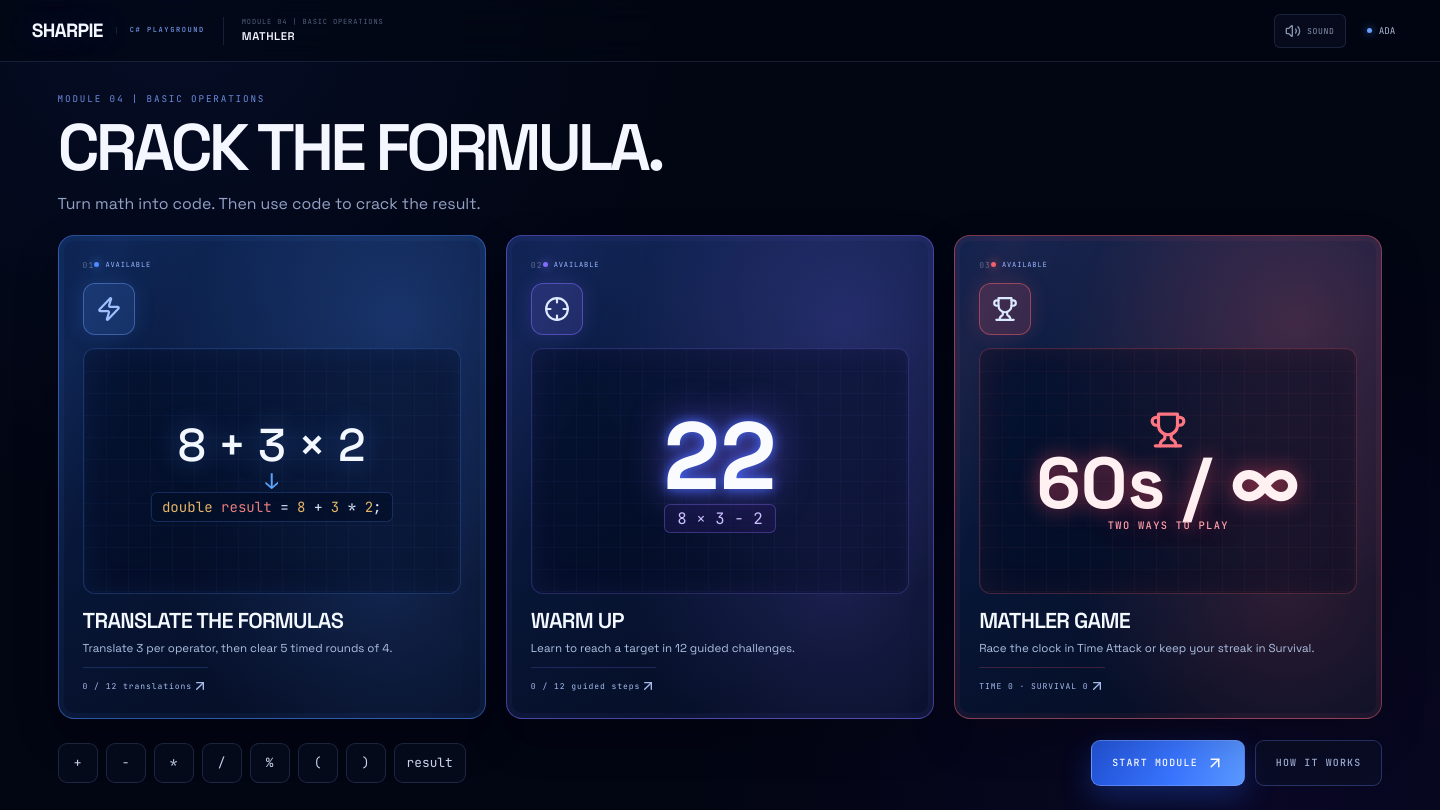
it: BasicOperations module intro › starts the translate phase with the first level
The width and height of the screenshot is (1440, 810).
Click the button "START MODULE".
click(1168, 763)  # box [1091,740,1245,786]
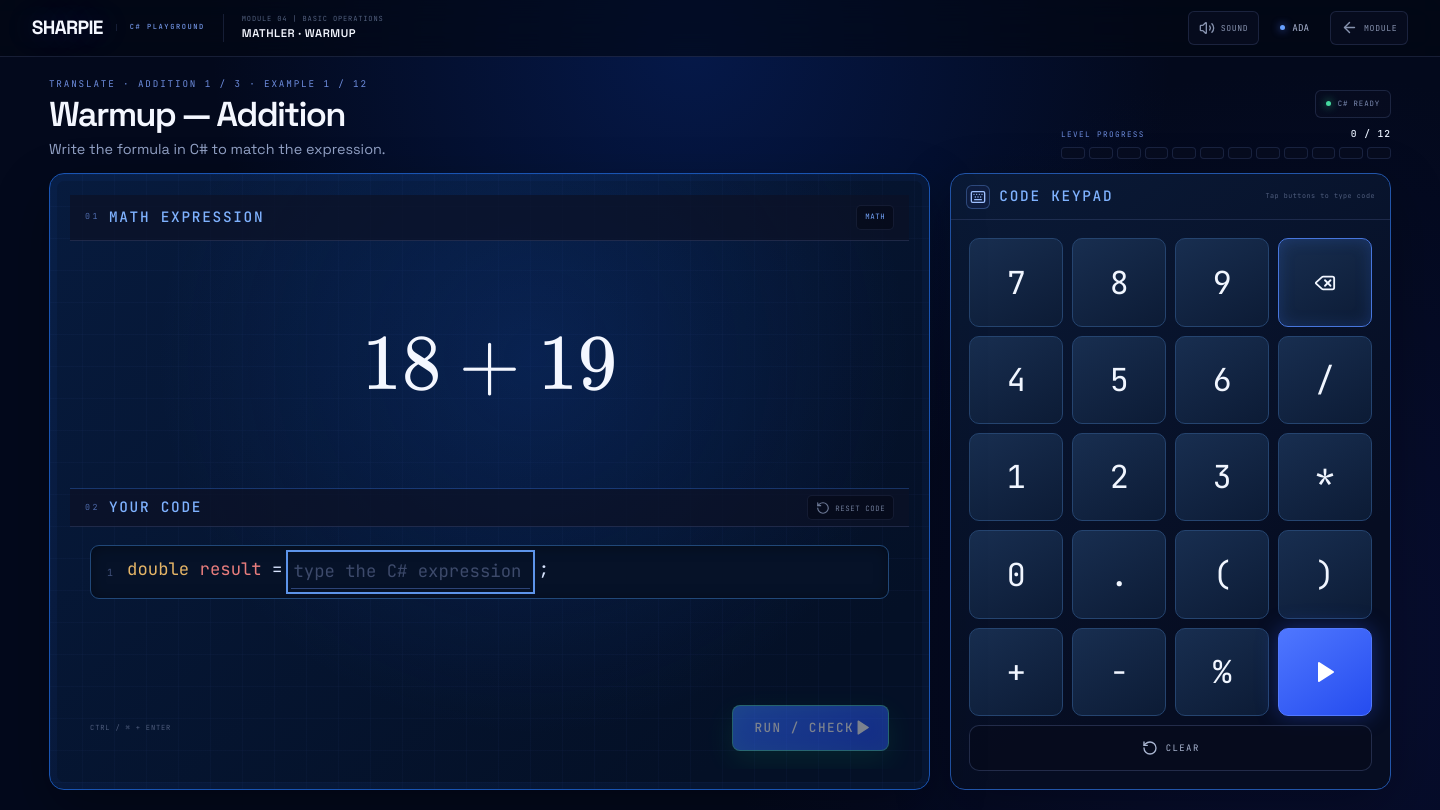
Expected: the text "MATH EXPRESSION" is shown, [109,208,264,227]
Expected: the text "YOUR CODE" is shown, [109,498,202,517]
Expected: the text "CODE KEYPAD" is shown, [999,187,1113,206]
